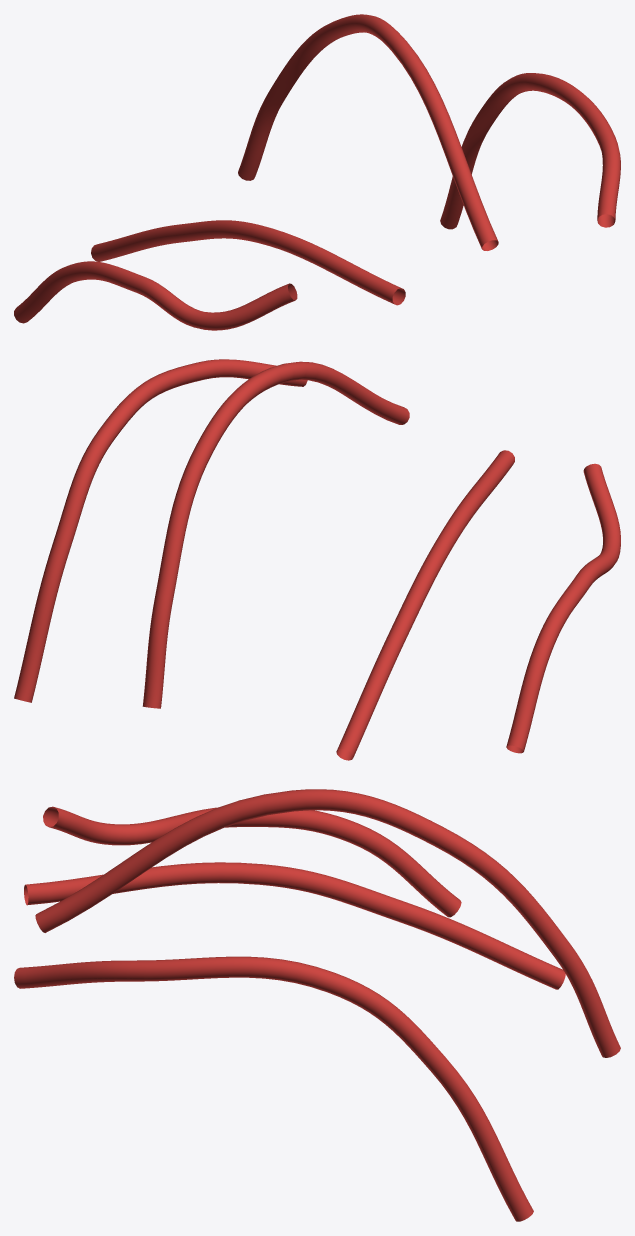
3 renders of one model, top to bottom at view 1: azimuth 30°, elevation 25°; view 2: azimuth 150°, elevation 25°; view 3: azimuth 270°, elevation 25°, orthographic. The views are drawn at different scales.
Parts seen in each view (by area): view 1: 右侧掌心动脉; view 2: 右侧掌心动脉; view 3: 右侧掌心动脉.
Boxes of the visible parts, left/top/right/bottom form: 右侧掌心动脉: left=14, top=14, right=620, bottom=330; 右侧掌心动脉: left=14, top=359, right=620, bottom=760; 右侧掌心动脉: left=14, top=789, right=620, bottom=1221.
Bounding box in the file's own units: 0.0621 × 0.0373 × 0.0592.
